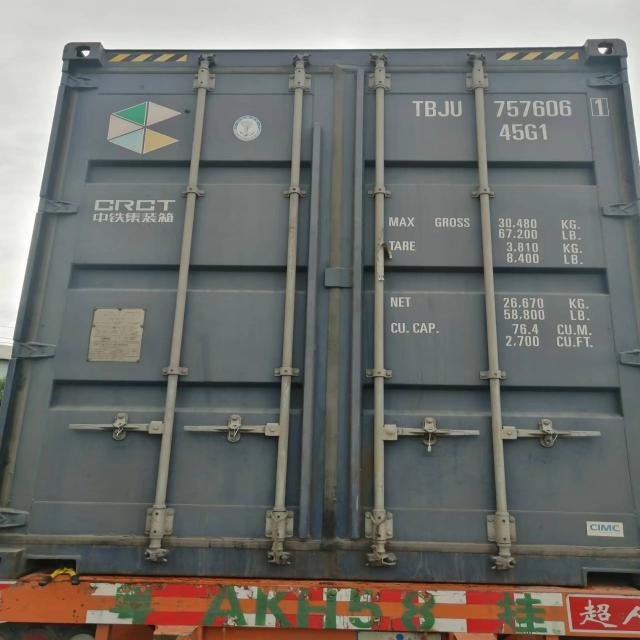ISO: (499, 122, 549, 142)
container_number: (416, 100, 602, 118), (496, 99, 570, 121)
